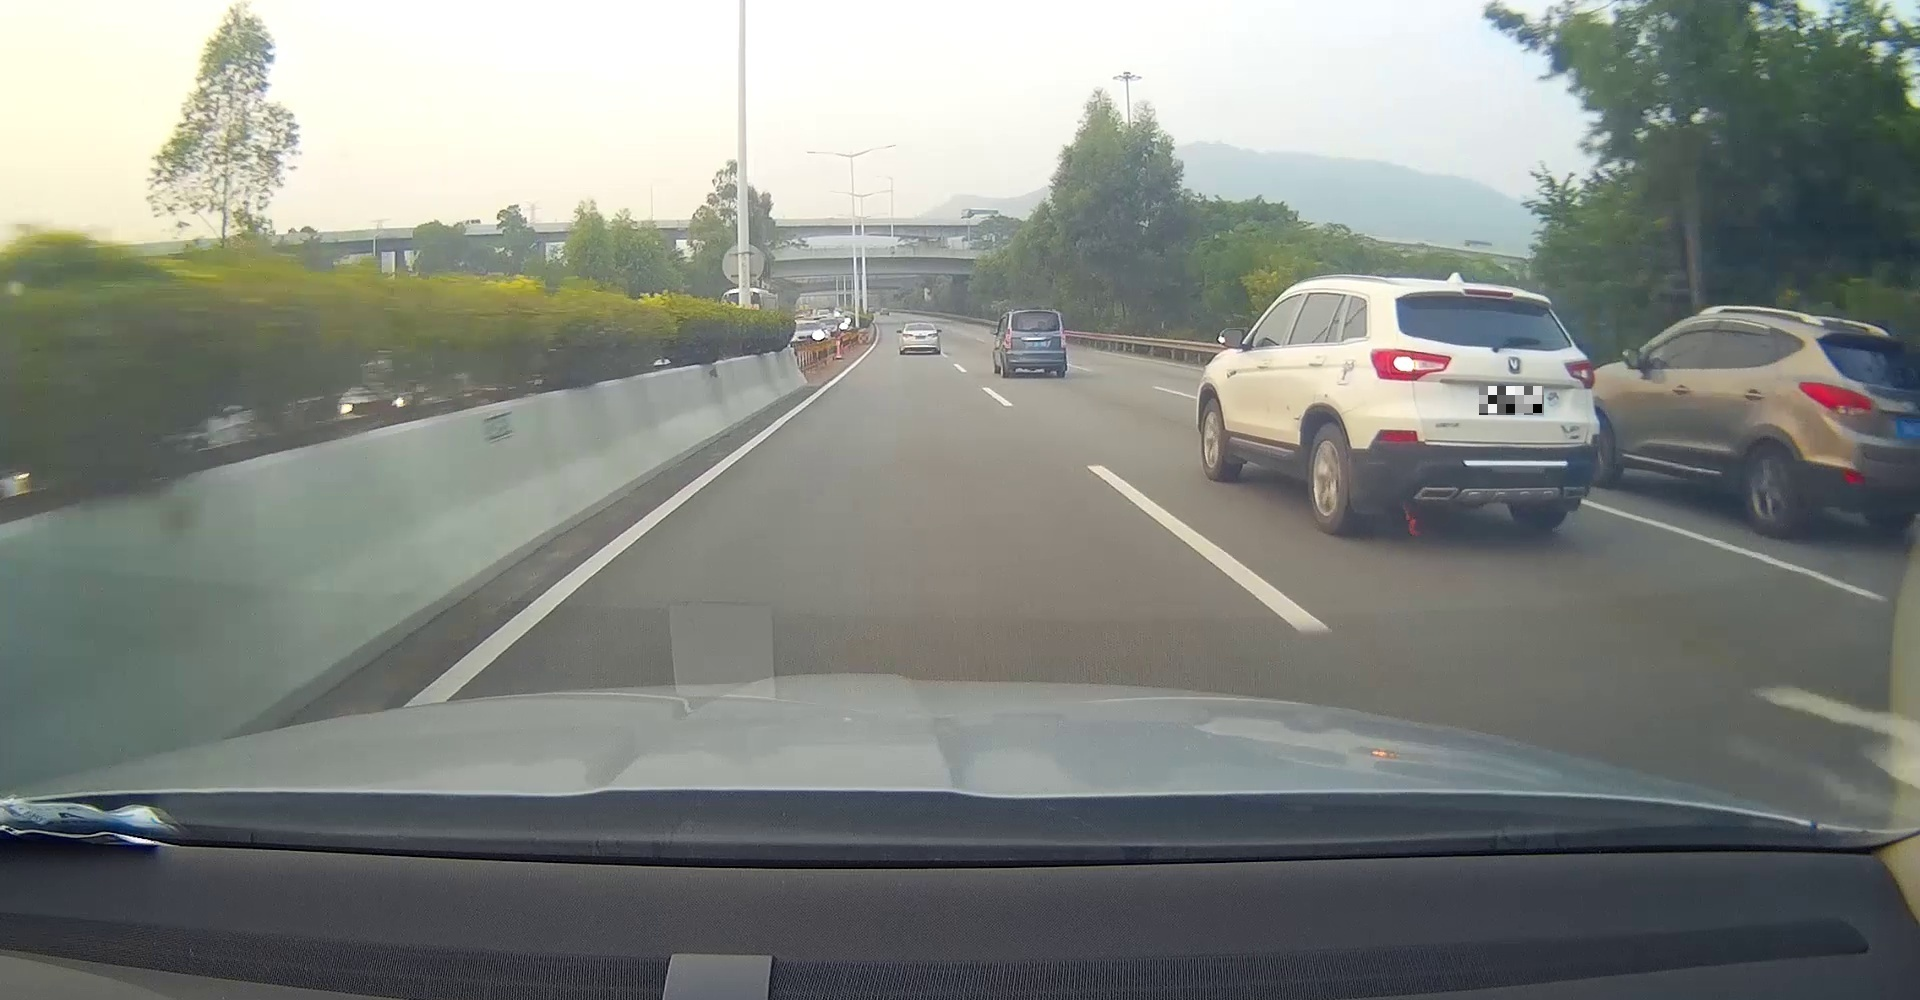L_light: (1371, 349, 1450, 381), (1004, 327, 1012, 349), (902, 334, 913, 338)
R_light: (1564, 359, 1595, 390), (1060, 329, 1065, 348), (928, 332, 938, 336)
T_light: (1463, 289, 1514, 298), (1031, 327, 1041, 331), (917, 325, 924, 327)
day-left: (1364, 280, 1601, 533)
day-no: (1002, 308, 1067, 377), (899, 324, 941, 354)
plate_1: (1479, 386, 1544, 415)
